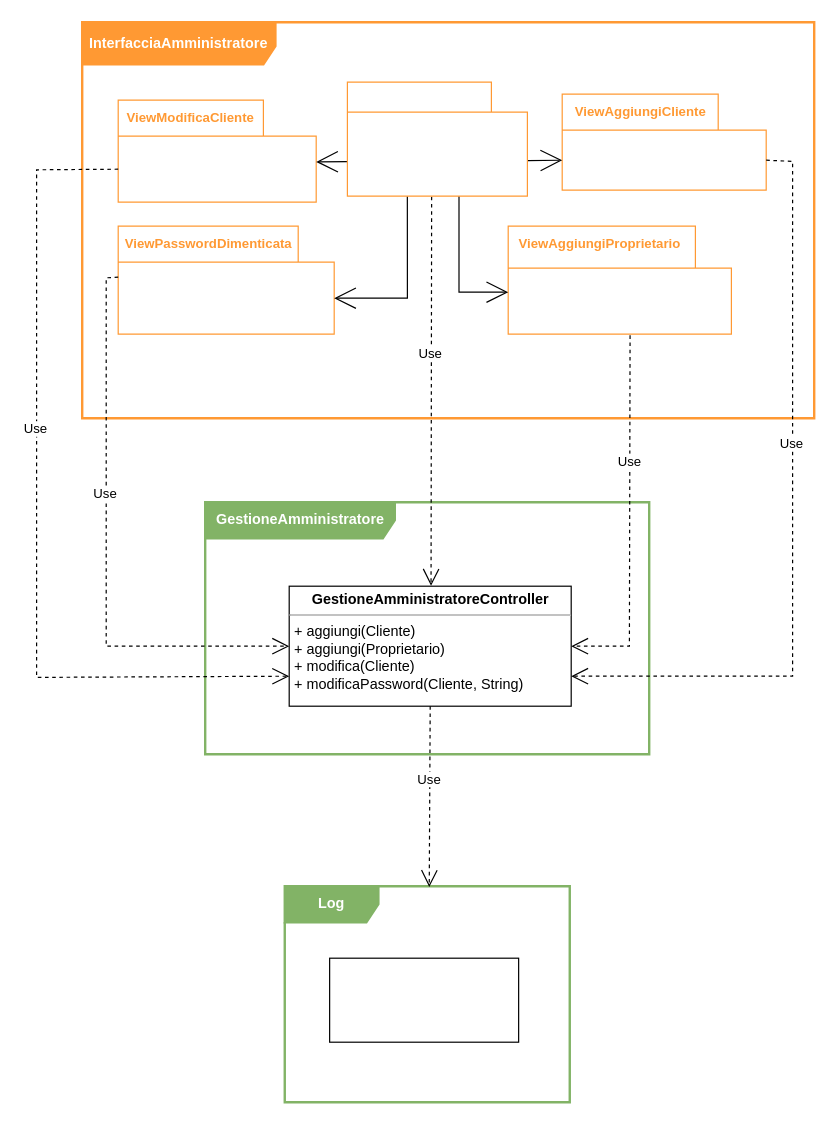
The diagram is 836 pixels wide and 1123 high, and some of its shapes have lost their labels. Each missing label, with the centre of its shape:
"HomeAmministratore" goes at [436,138].
"Logger + aggiungiVoce(voce)" goes at [423,999].
